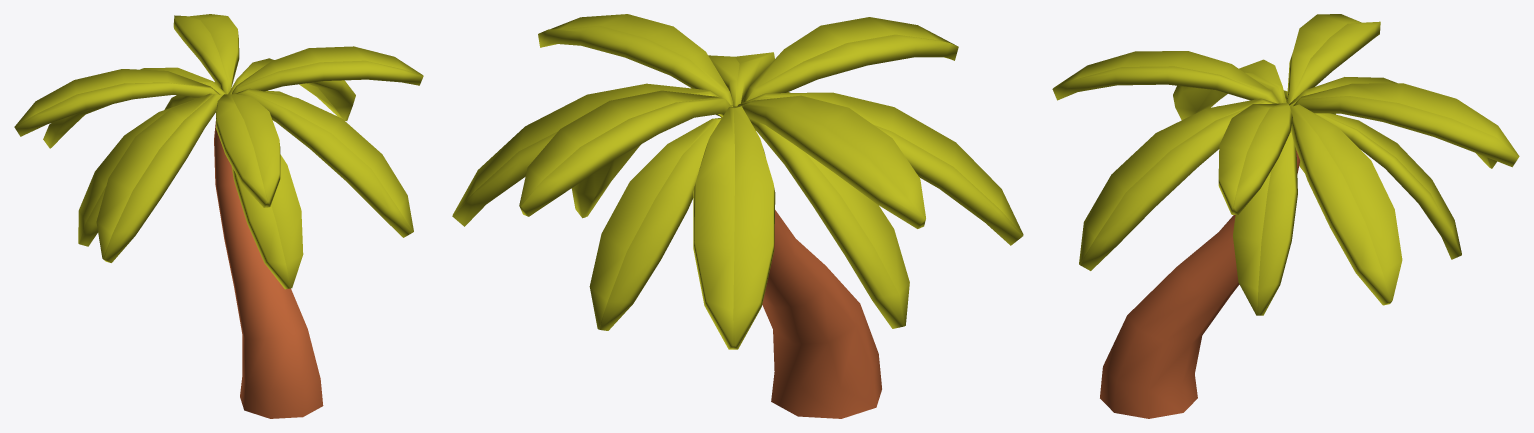
Rendered from palm_s.glb.
3 renders of one model, left to right at view 1: azimuth 30°, elevation 25°; view 2: azimuth 150°, elevation 25°; view 3: azimuth 270°, elevation 25°, orthographic. The views are drawn at different scales.
Parts seen in each view (by area): view 1: palm_s; view 2: palm_s; view 3: palm_s.
Boxes of the visible parts, bbox=[...] form: palm_s: bbox=[14, 14, 423, 418]; palm_s: bbox=[452, 14, 1023, 418]; palm_s: bbox=[1052, 14, 1519, 418].
Bounding box in the file's own units: 2.73 × 2.14 × 2.77.
1 material, 1 textured.
